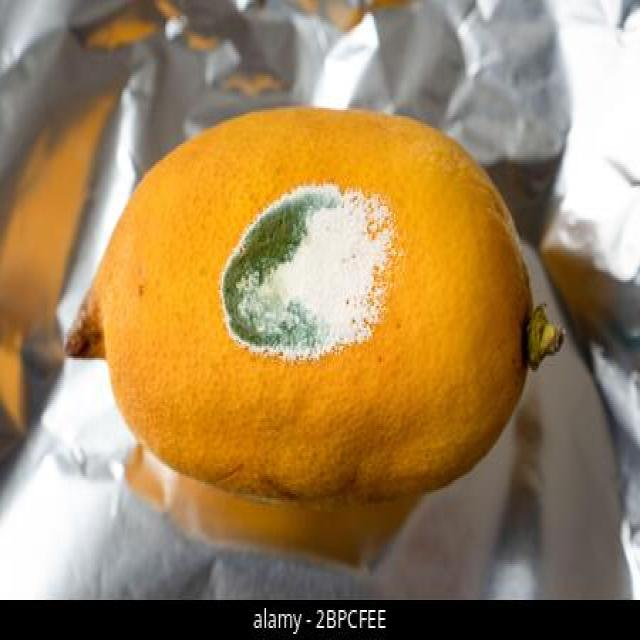Rotten: (65, 108, 530, 510)
